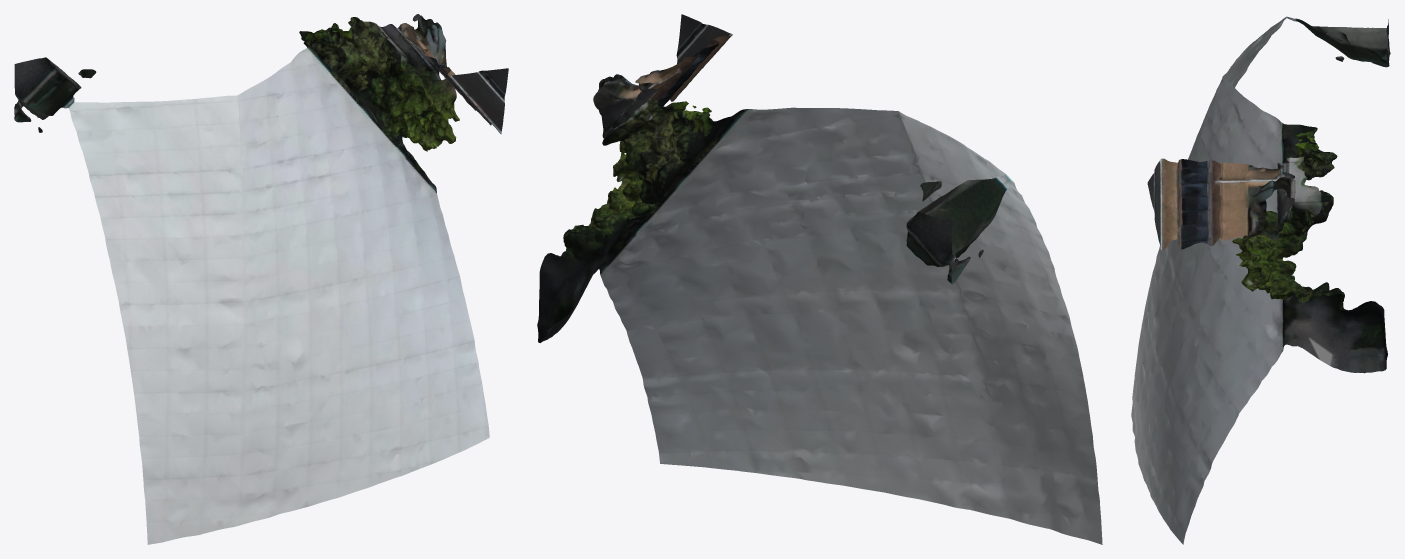
File: Tile_+012_+010.fbx
3 renders of one model, left to right at view 1: azimuth 30°, elevation 25°; view 2: azimuth 150°, elevation 25°; view 3: azimuth 270°, elevation 25°, orthographic. The views are drawn at different scales.
Visible parts, largest first — view 1: DefaultName; view 2: DefaultName; view 3: DefaultName.
Part boxes in pixels (x1,y1,x2,y2): DefaultName: (14, 14, 508, 544); DefaultName: (537, 14, 1102, 544); DefaultName: (1131, 16, 1390, 544).
Bounding box in the file's own units: 22.54 × 22.54 × 14.64.
